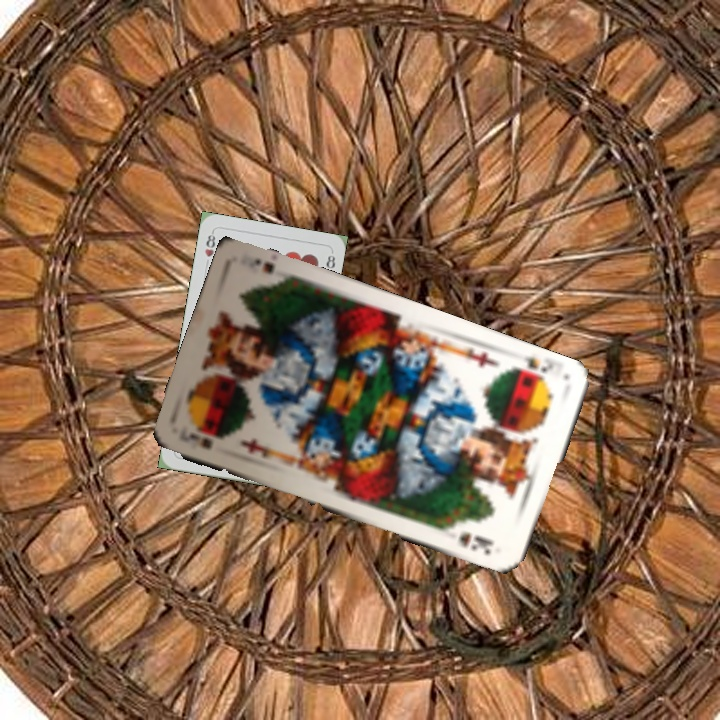H8: (201, 228, 218, 260)
SK: (508, 352, 556, 385), (180, 423, 215, 452)
